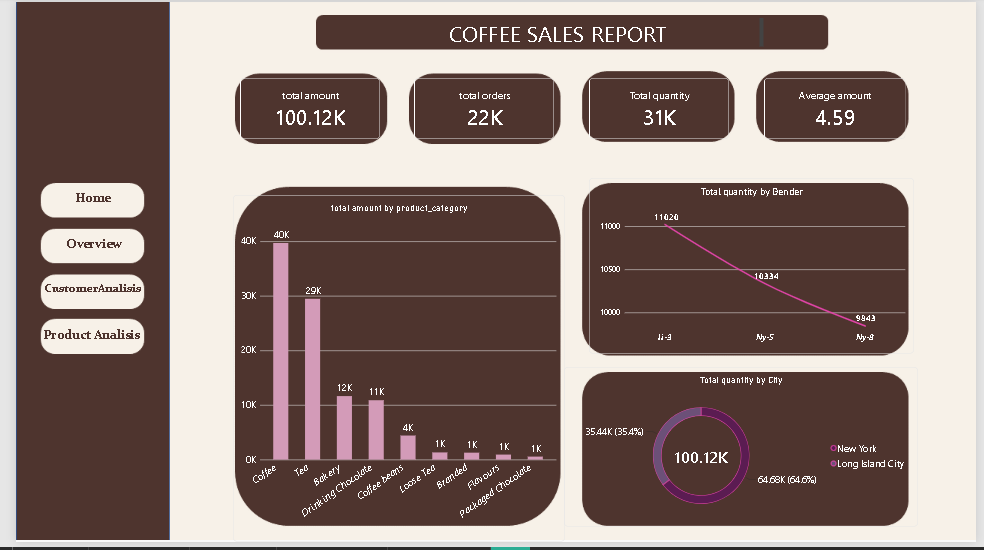

The dashboard page shown, as its layout file describes it:
{"tool":"powerbi","page":{"name":"OVERVIEW","canvas":[1920,1080],"ordinal":1},"visuals":[{"type":"cardVisual","fields":{"Data":["measuers.total amount"]},"box":[447.5,152.5,280,122.5],"z":0},{"type":"cardVisual","fields":{"Data":["measuers.total orders"]},"box":[795.7,152.9,280,122.5],"z":1000},{"type":"cardVisual","fields":{"Data":["measuers.Total Orders"]},"box":[1145.7,152.9,280,122.5],"z":2000},{"type":"cardVisual","fields":{"Data":["measuers.Average amount"]},"box":[1495.8,151.8,283.5,122.8],"z":3000},{"type":"lineChart","title":"Total quantity by Gender","fields":{"Category":["coffee_sales .home_store"],"Y":["measuers.Total quantity"]},"box":[1145.3,352.7,649.7,350.5],"z":4000},{"type":"donutChart","title":"Total quantity by City","fields":{"Category":["coffee_sales coffee.store_city"],"Y":["measuers.total amount"]},"box":[1096.2,730,707.7,319.3],"z":5000},{"type":"clusteredColumnChart","fields":{"Category":["coffee_sales coffee.product_category"],"Y":["measuers.total amount"]},"box":[434,386.8,663.7,693.2],"z":6000},{"type":"textbox","box":[680.9,31.3,814.9,58],"z":7000},{"type":"actionButton","title":"Home","box":[70,375,168.8,58.8],"z":8000},{"type":"actionButton","title":"Overview","box":[65,467.5,180,60],"z":9000},{"type":"actionButton","title":"CustomerAnalisis","box":[50,557.5,207.5,58.8],"z":10000},{"type":"actionButton","title":"Product Analisis","box":[40,650,222.5,75],"z":11000}]}

Visuals, with their boxes in screenshot pixels (x1, y1, x2, y2), scaled from the page's 1920x1080 canvas onto the 984x550 screenshot:
cardVisual - measuers.total amount: {"left": 229, "top": 78, "right": 373, "bottom": 140}
cardVisual - measuers.total orders: {"left": 408, "top": 78, "right": 551, "bottom": 140}
cardVisual - measuers.Total Orders: {"left": 587, "top": 78, "right": 731, "bottom": 140}
cardVisual - measuers.Average amount: {"left": 767, "top": 77, "right": 912, "bottom": 140}
"Total quantity by Gender" lineChart: {"left": 587, "top": 180, "right": 920, "bottom": 358}
"Total quantity by City" donutChart: {"left": 562, "top": 372, "right": 924, "bottom": 534}
clusteredColumnChart - coffee_sales coffee.product_category x measuers.total amount: {"left": 222, "top": 197, "right": 563, "bottom": 549}
textbox: {"left": 349, "top": 16, "right": 767, "bottom": 45}
"Home" actionButton: {"left": 36, "top": 191, "right": 122, "bottom": 221}
"Overview" actionButton: {"left": 33, "top": 238, "right": 126, "bottom": 269}
"CustomerAnalisis" actionButton: {"left": 26, "top": 284, "right": 132, "bottom": 314}
"Product Analisis" actionButton: {"left": 20, "top": 331, "right": 135, "bottom": 369}
